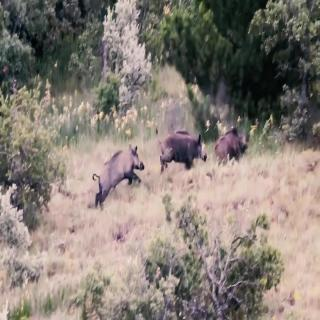Pig: (152, 125, 205, 184), (90, 144, 146, 194), (213, 127, 254, 178)
